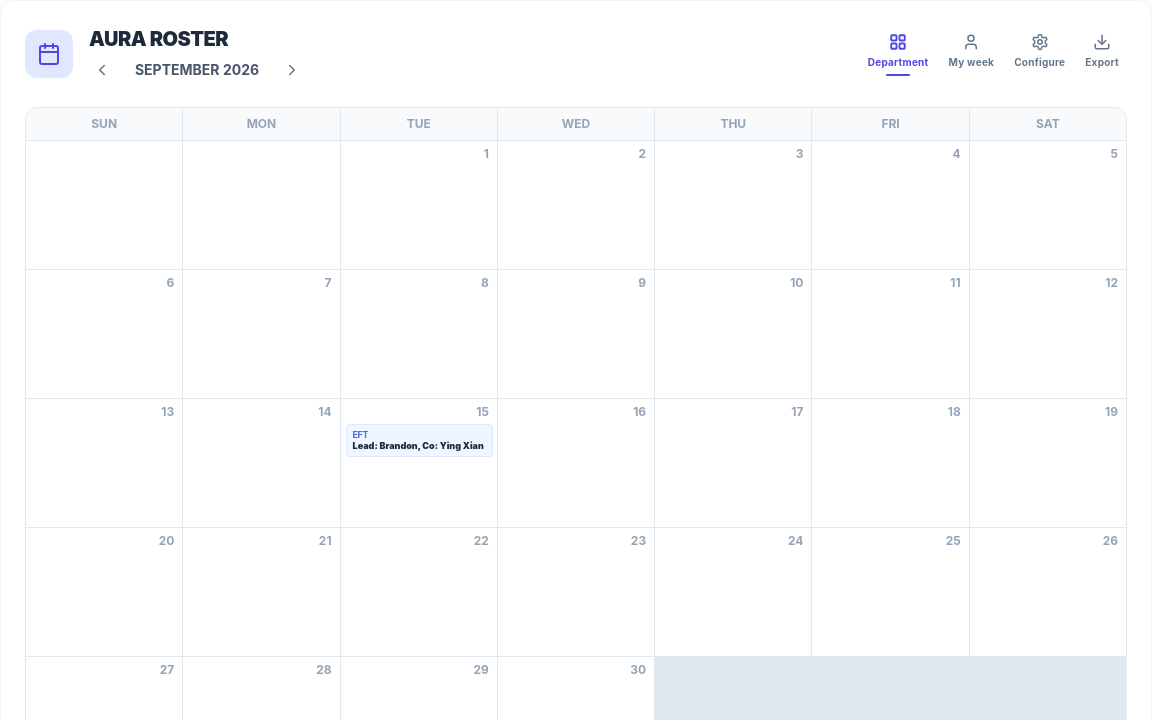
Test: duplicate swap requests are refused (M12) › writes the first request and refuses an identical second one
Click the button "EFT Lead: Brandon, Co: Ying Xian". click: (419, 440)
box: [346, 424, 493, 456]
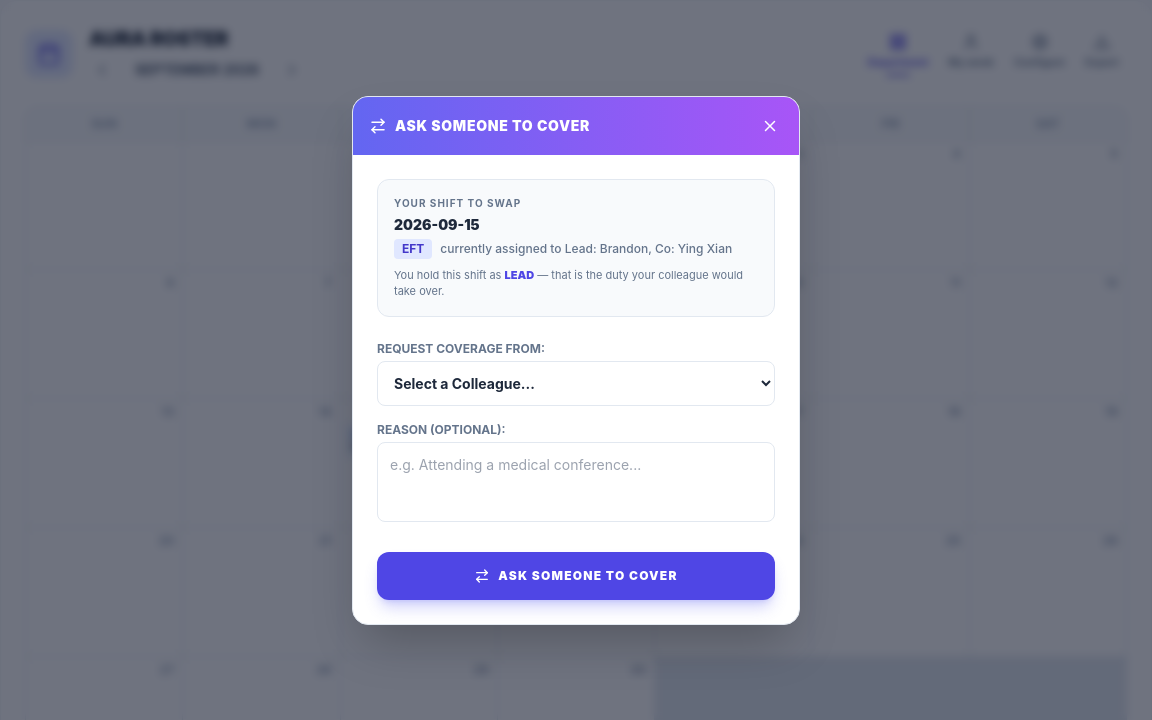
Select "Derlinder" in the dropdown. click: (576, 383)
box: [377, 360, 775, 406]
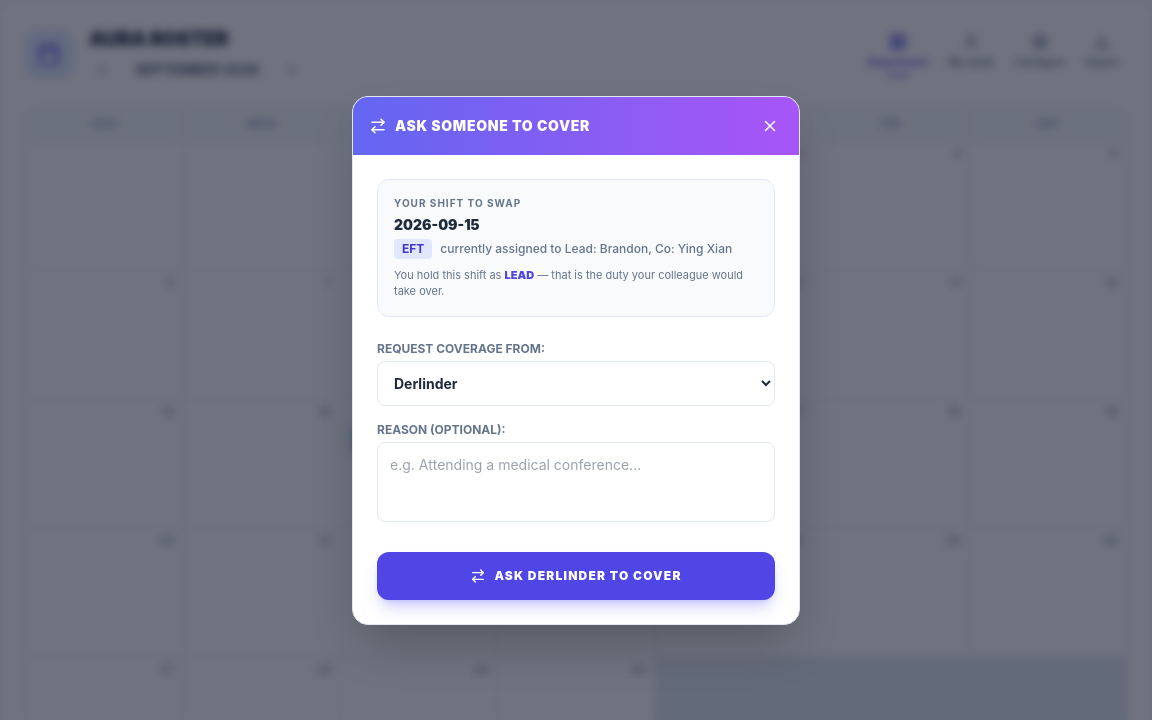
Click the button "Ask Derlinder to cover". click: (576, 576)
box: [377, 552, 775, 600]
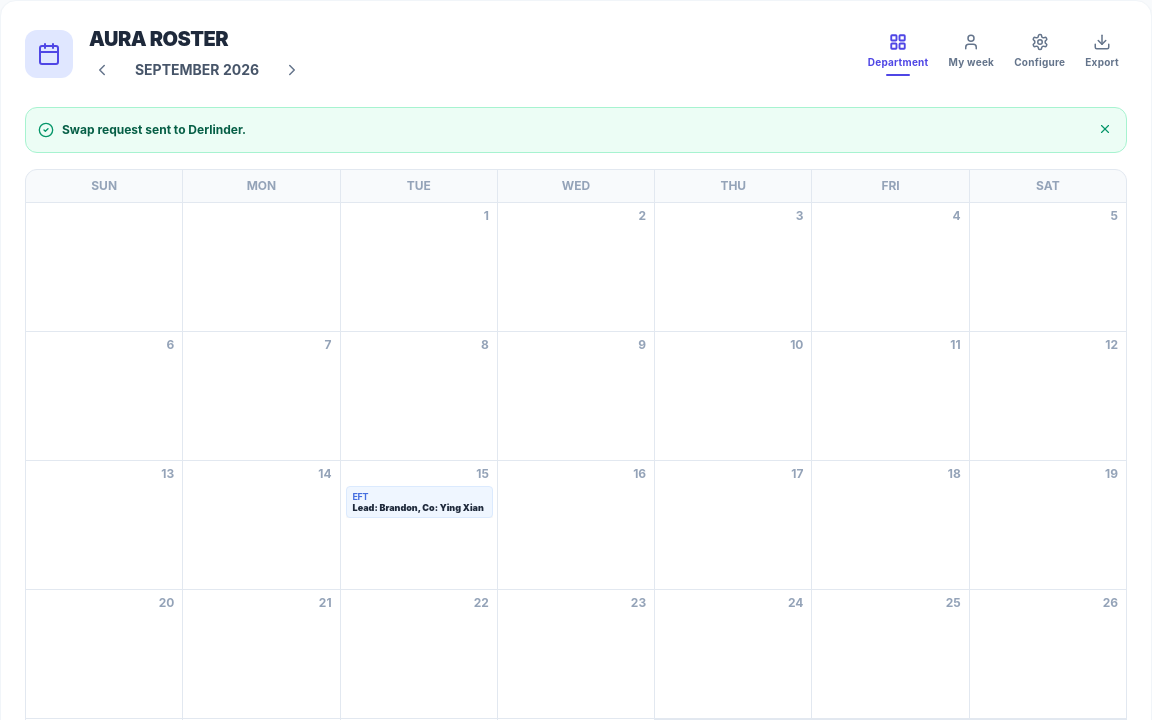
Expected: the text "Swap request sent to Derlinder." is shown, [62, 122, 246, 137]
Click the button "EFT Lead: Brandon, Co: Ying Xian". click: (419, 502)
box: [346, 486, 493, 518]
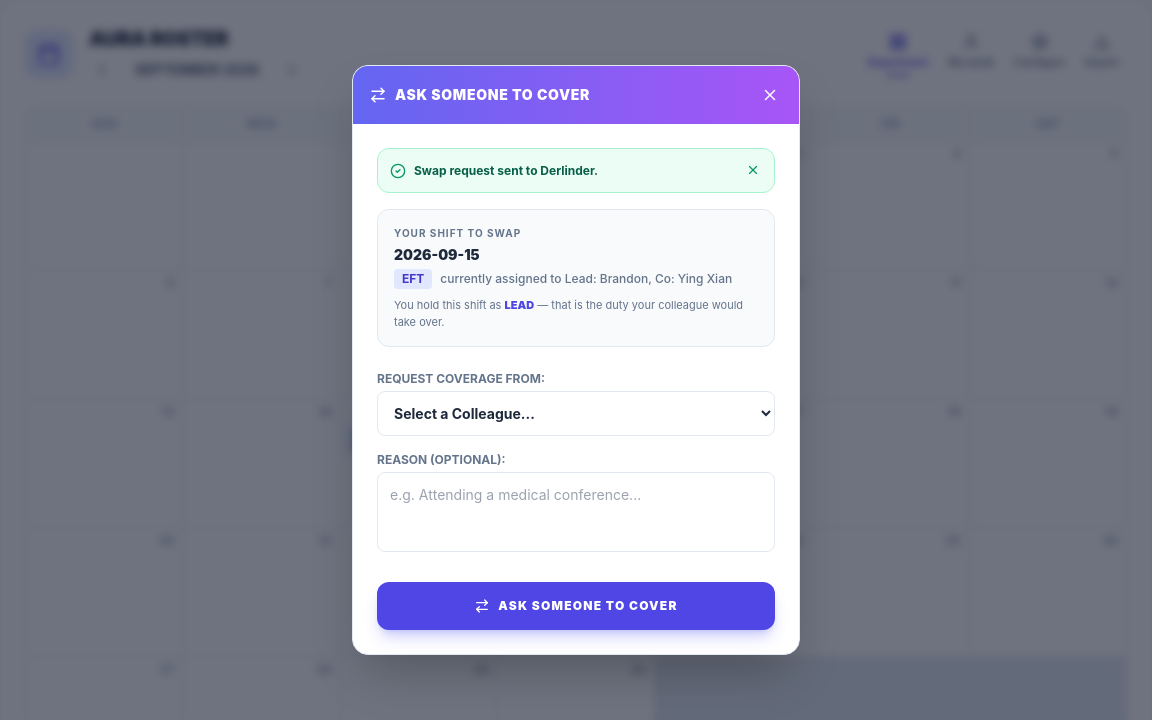
Select "Derlinder" in the dropdown. click: (576, 414)
box: [377, 391, 775, 436]
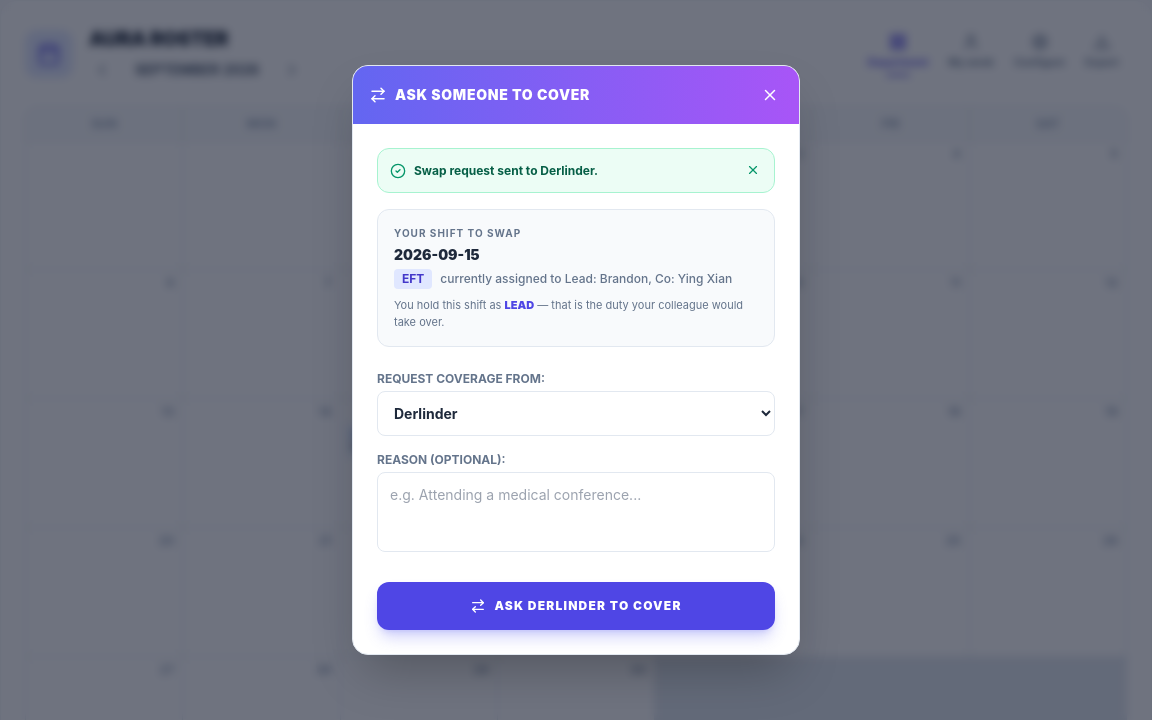
Click the button "Ask Derlinder to cover". click: (576, 606)
box: [377, 582, 775, 630]
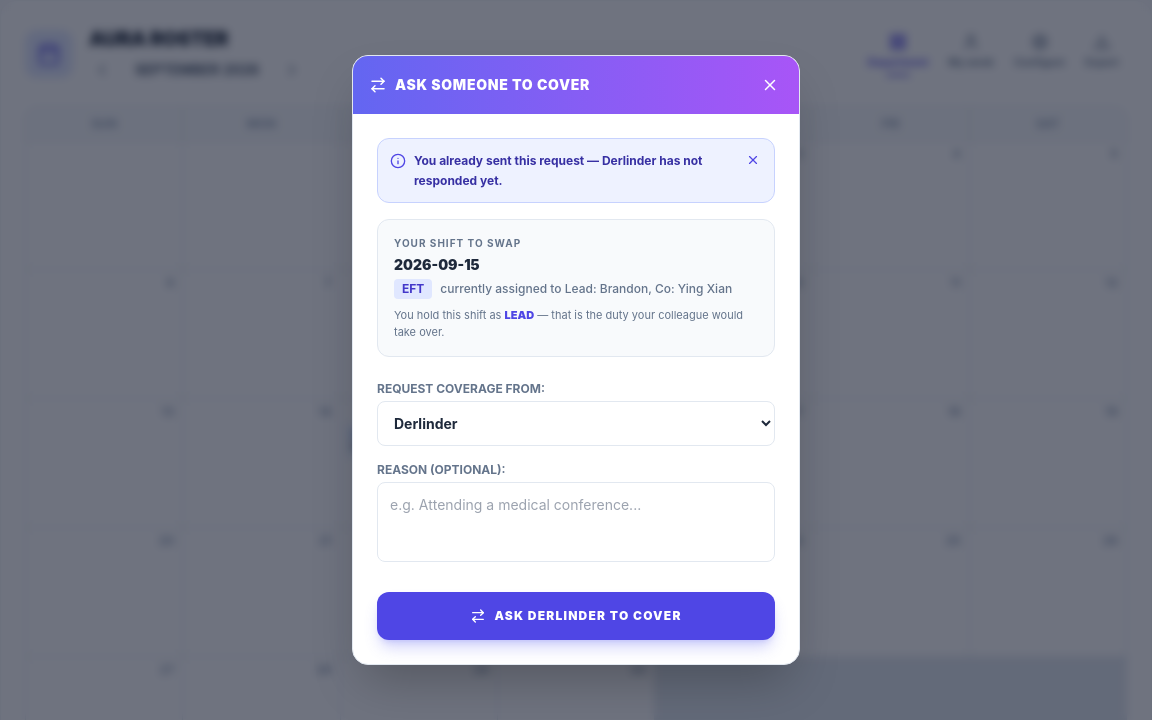
Expected: the text "You already sent this request — Derlinder has not responded yet" is shown, [414, 153, 702, 188]
